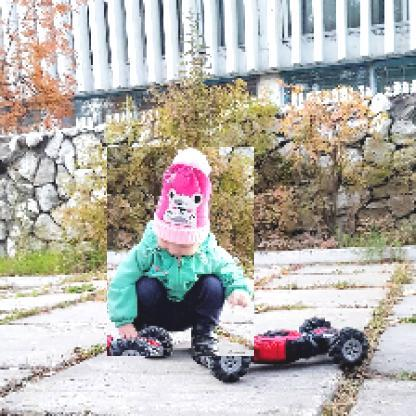child: (108, 149, 256, 359)
